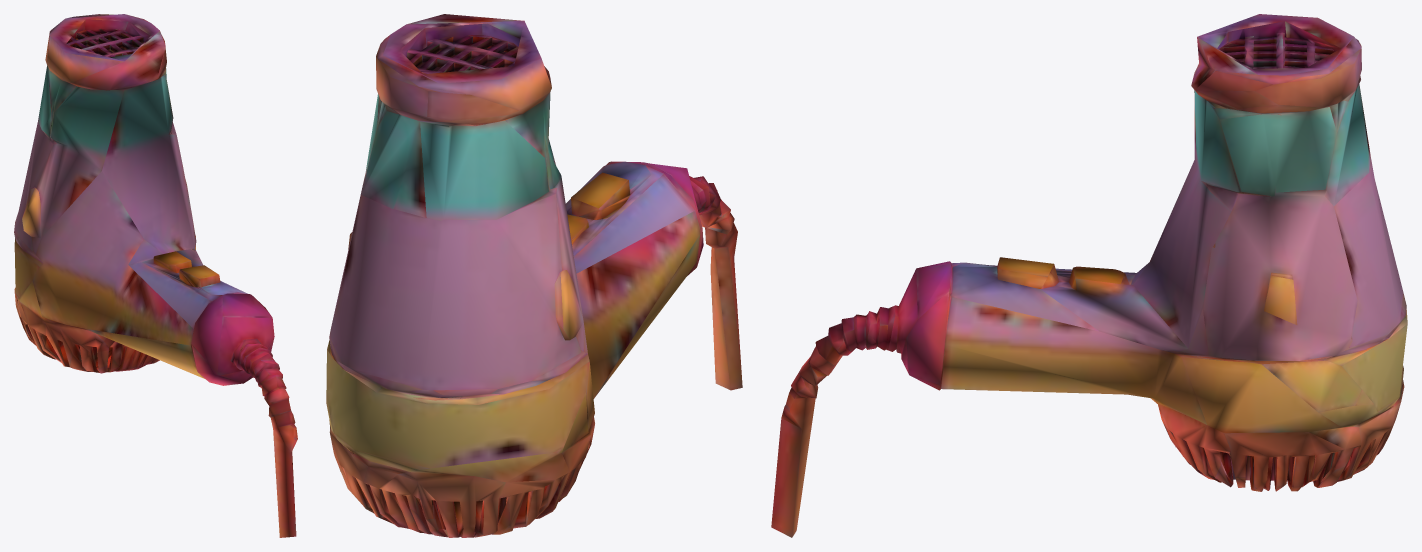
3 views of the same model, side by side, from view 1: azimuth 30°, elevation 25°; view 2: azimuth 150°, elevation 25°; view 3: azimuth 270°, elevation 25° (orthographic). The views are drawn at different scales.
Parts seen in each view (by area): view 1: material; view 2: material; view 3: material.
Boxes of the visible parts, x1,y1,x2,y2 form: material: (14, 14, 297, 537); material: (326, 14, 742, 537); material: (771, 14, 1407, 537).
Bounding box in the file's own units: 0.3786 × 0.8475 × 1.
1 material, 1 textured.
